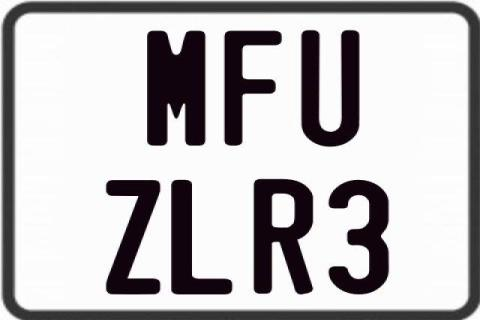0: (328, 179, 392, 297)
F: (221, 30, 280, 146)
L: (168, 180, 231, 294)
M: (147, 30, 205, 148)
R: (251, 178, 313, 298)
U: (299, 31, 360, 149)
Z: (104, 179, 162, 299)
